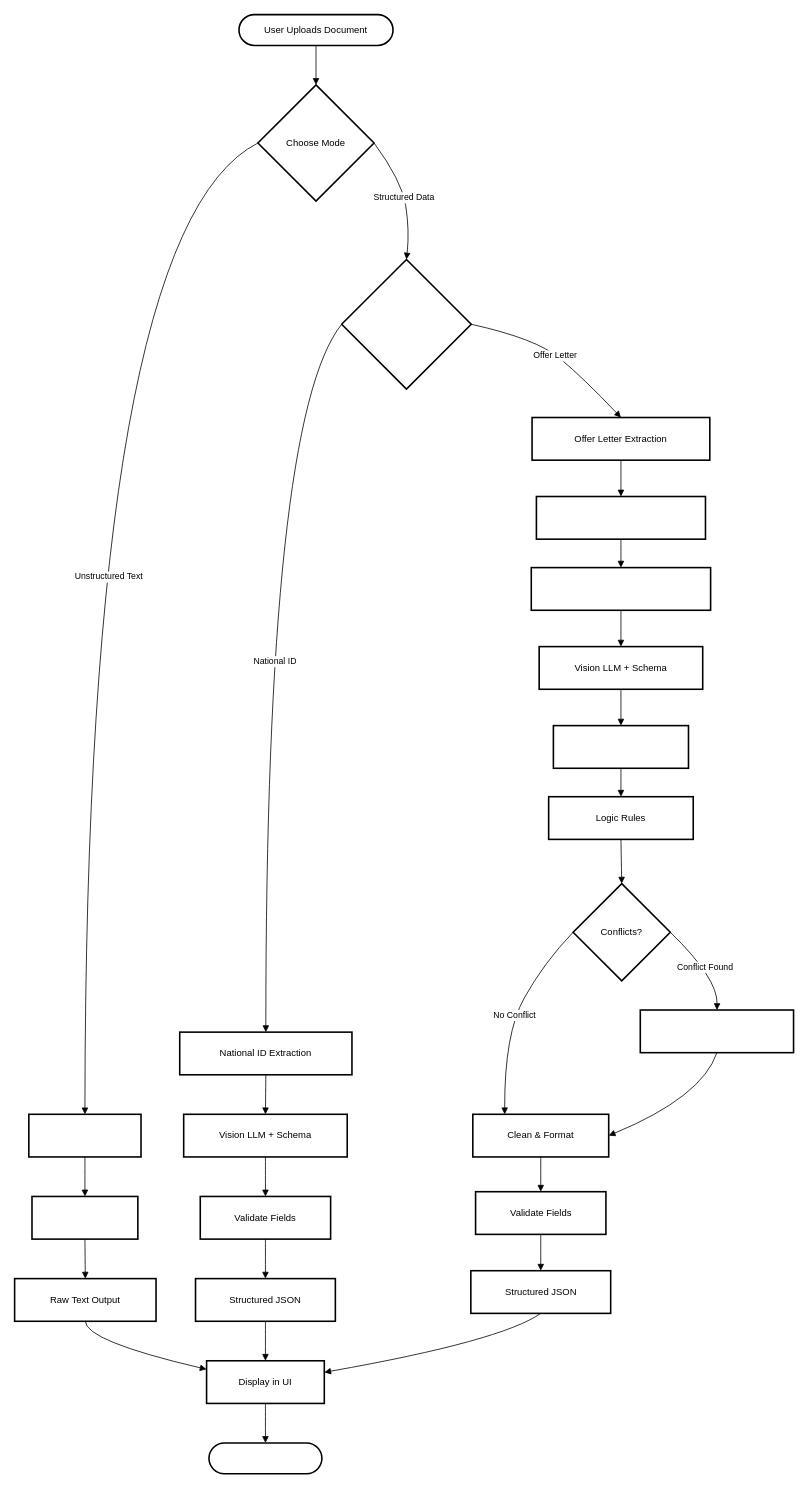
This 807x1488 diagram has some shape labels left out. Each missing label, with the centre of its shape:
"Document Type" goes at (406,323).
"Download Result" goes at (265,1458).
"Extract from Each Page" goes at (620,588).
"LLM Judge Decides" goes at (716,1031).
"Merge All Pages" goes at (620,746).
"Multi-Page Processing" goes at (620,517).
"Simple OCR" goes at (84,1135).
"Vision LLM" goes at (84,1217).
